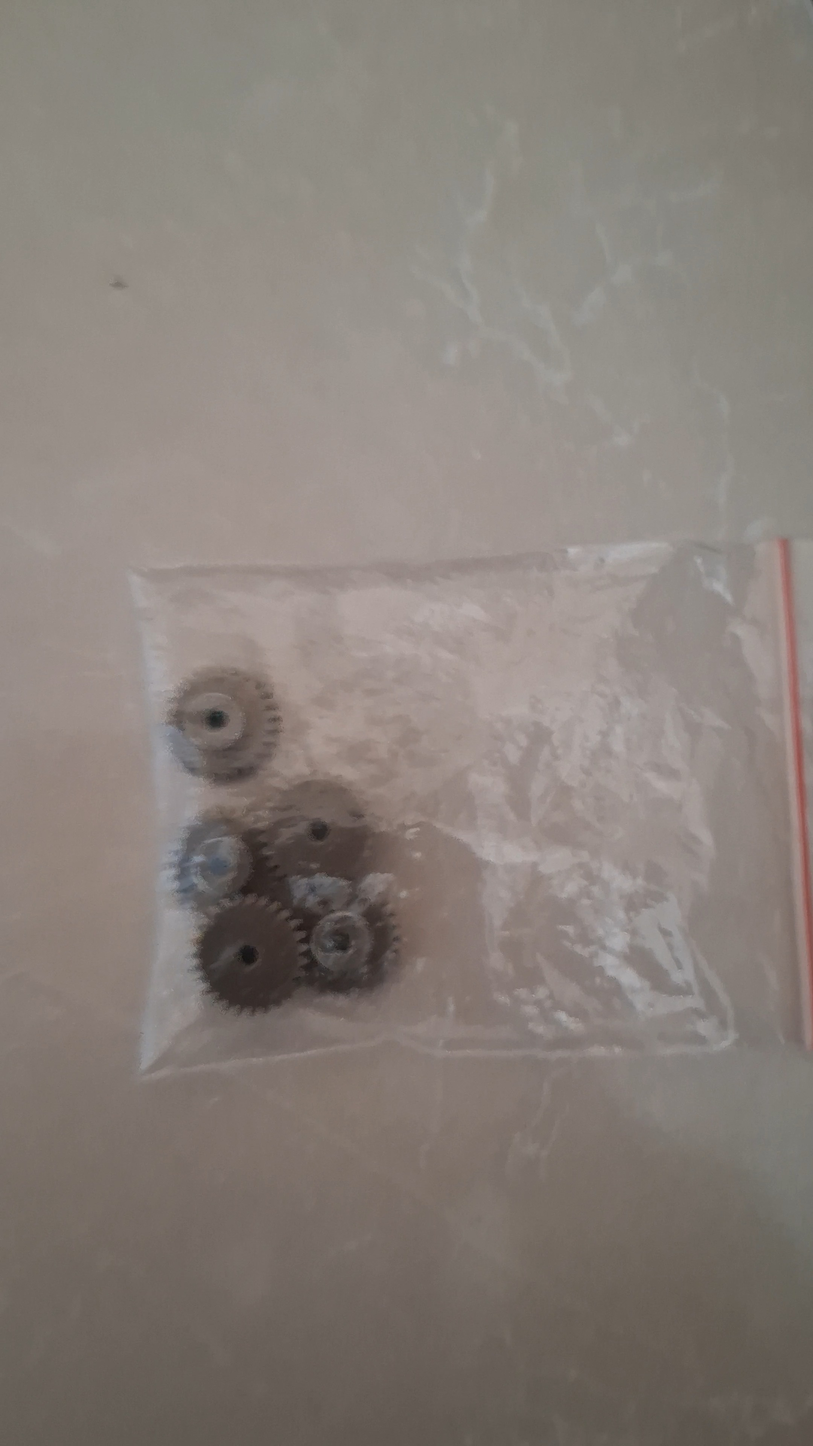spur gear: (167, 668, 279, 781), (196, 897, 306, 1012), (265, 779, 370, 879), (307, 900, 399, 991), (174, 813, 258, 910)
